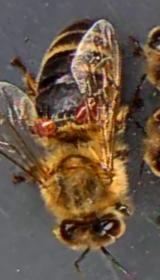varroa_mite: (65, 100, 112, 126), (29, 109, 66, 140)
